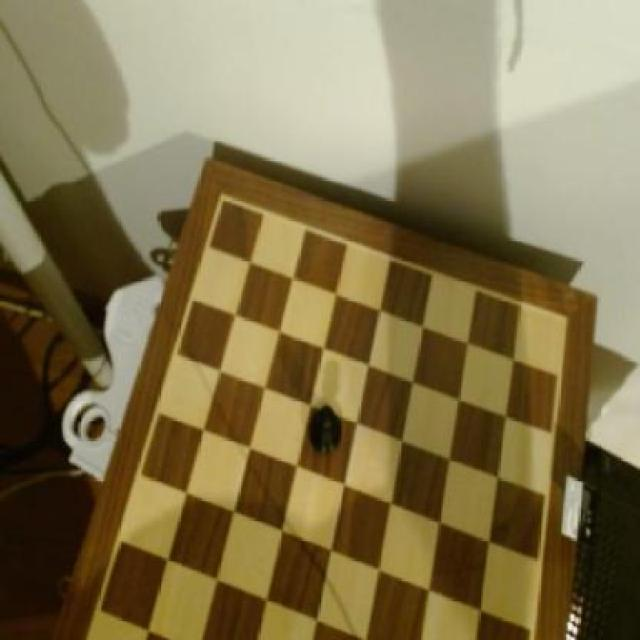black-knight: (308, 400, 343, 460)
